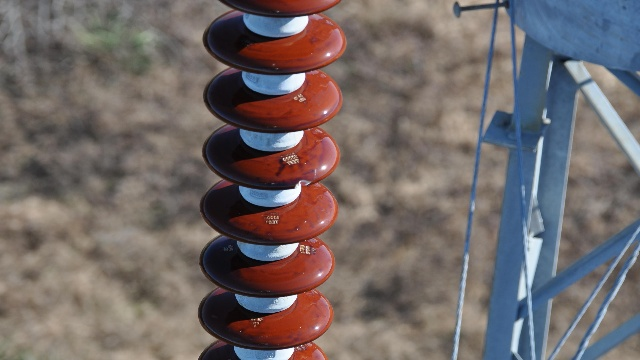broken_local: (292, 176, 314, 188)
insulator_unspecified: (194, 2, 346, 359)
